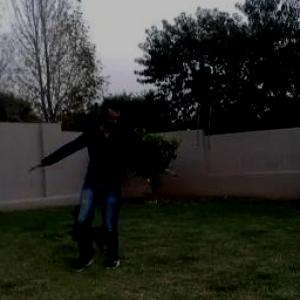land: (66, 102, 188, 247)
